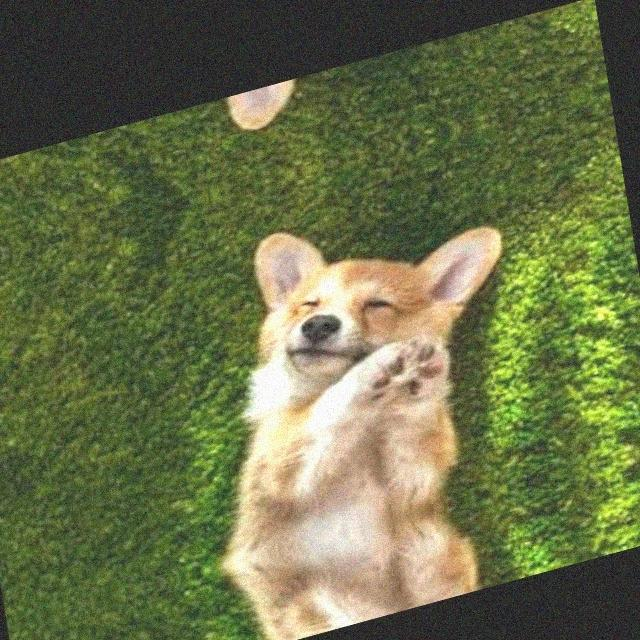dog: (202, 152, 527, 436), (182, 30, 483, 167)
